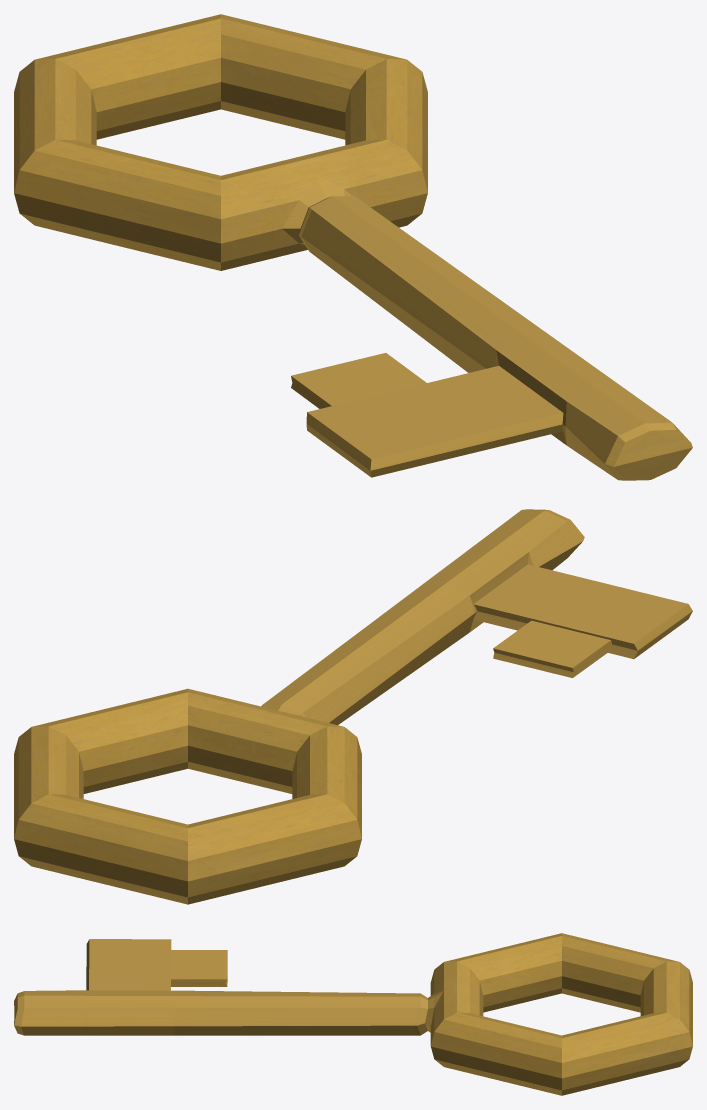
File: key1.fbx
The picture shows the model from 3 angles, top to bottom: view 1: azimuth 30°, elevation 25°; view 2: azimuth 150°, elevation 25°; view 3: azimuth 270°, elevation 25°; orthographic projection. The views are drawn at different scales.
Visible parts, largest first — view 1: Torus; view 2: Torus; view 3: Torus.
Boxes of the visible parts, x1,y1,x2,y2 form: Torus: (14,14,692,480); Torus: (14,509,692,904); Torus: (14,933,692,1095).
Bounding box in the file's own units: 261 × 50 × 561.
